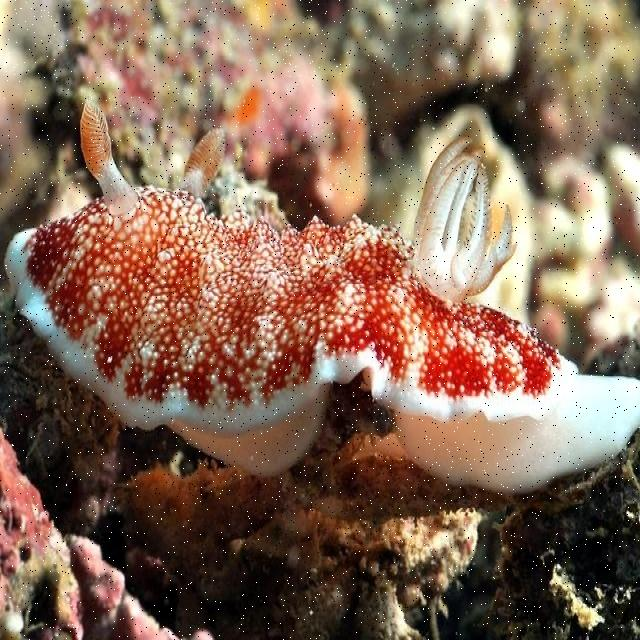reefs: (5, 97, 639, 491)
